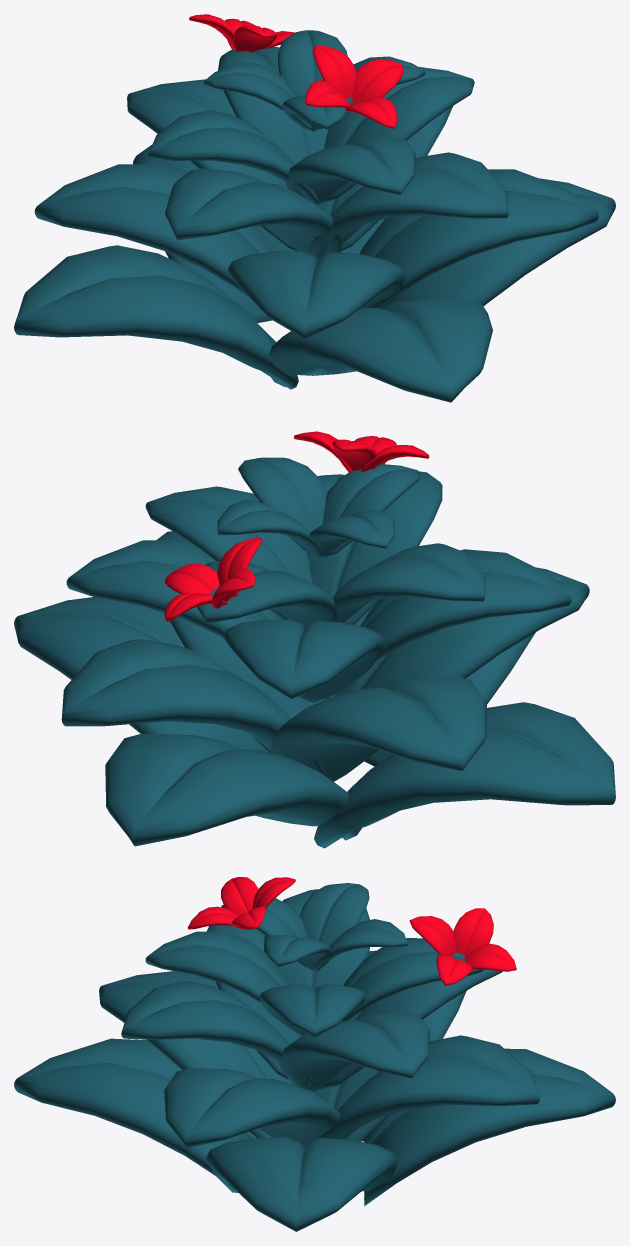
The model's file is Shrub.FBX.
The picture shows the model from 3 angles, top to bottom: view 1: azimuth 30°, elevation 25°; view 2: azimuth 150°, elevation 25°; view 3: azimuth 270°, elevation 25°; orthographic projection. The views are drawn at different scales.
Visible parts, largest first — view 1: Box012, Box015, Box016; view 2: Box012, Box016, Box015; view 3: Box012, Box016, Box015.
Part boxes in pixels (x1,y1,x2,y2): Box012: [14, 30, 615, 402]; Box015: [305, 45, 403, 128]; Box016: [189, 14, 294, 52]; Box012: [14, 457, 615, 848]; Box016: [164, 537, 261, 621]; Box015: [293, 431, 429, 472]; Box012: [14, 883, 615, 1231]; Box016: [409, 908, 516, 985]; Box015: [187, 877, 295, 929].
Size of the model in its own units: 3.93 by 2.1 by 3.9.
